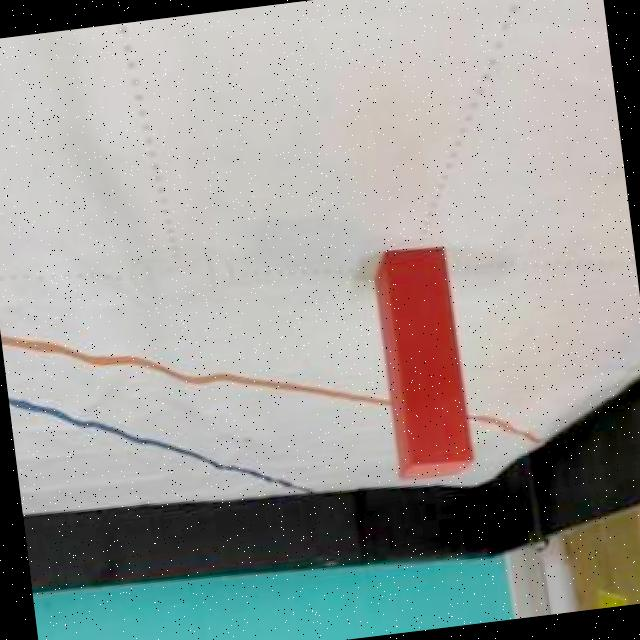redbox: (372, 242, 474, 486)
